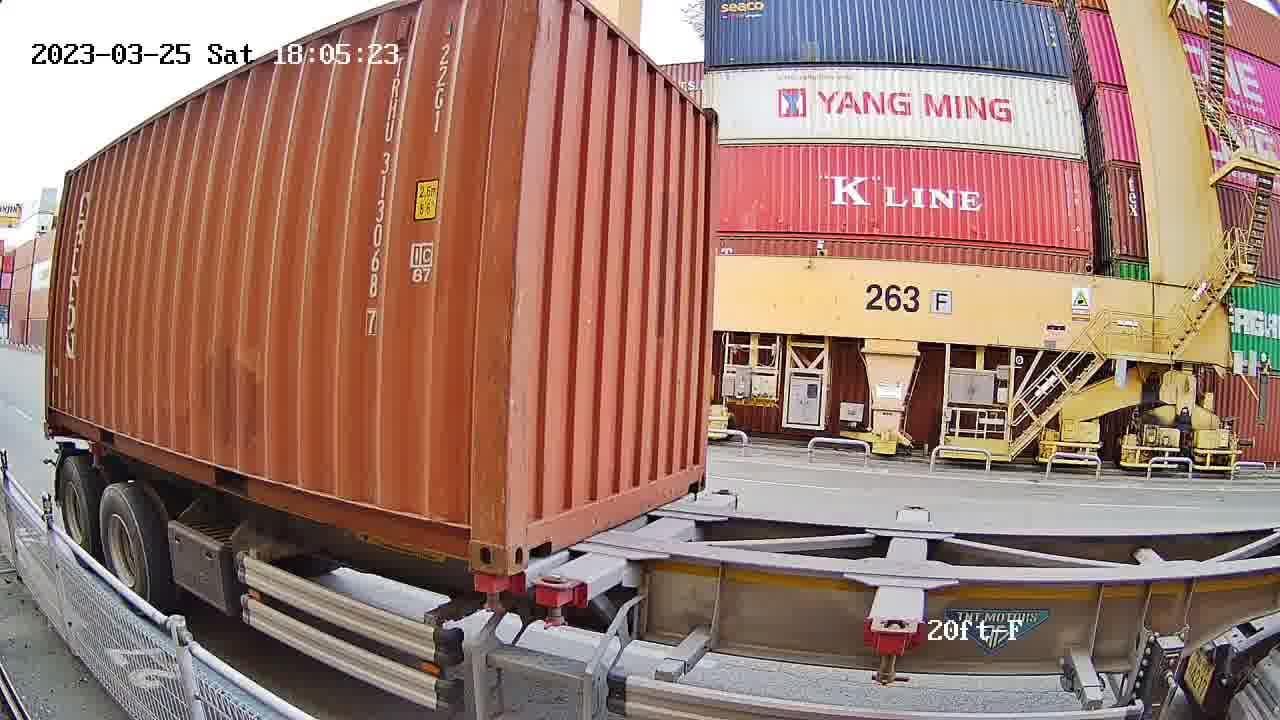Chassis: (535, 492, 739, 606)
Cone: (533, 573, 582, 629), (470, 569, 507, 615)
Hole_L: (507, 497, 560, 577)
Hole_R: (440, 492, 508, 577), (682, 449, 708, 496)
Tire: (98, 493, 150, 610), (57, 462, 94, 560)
